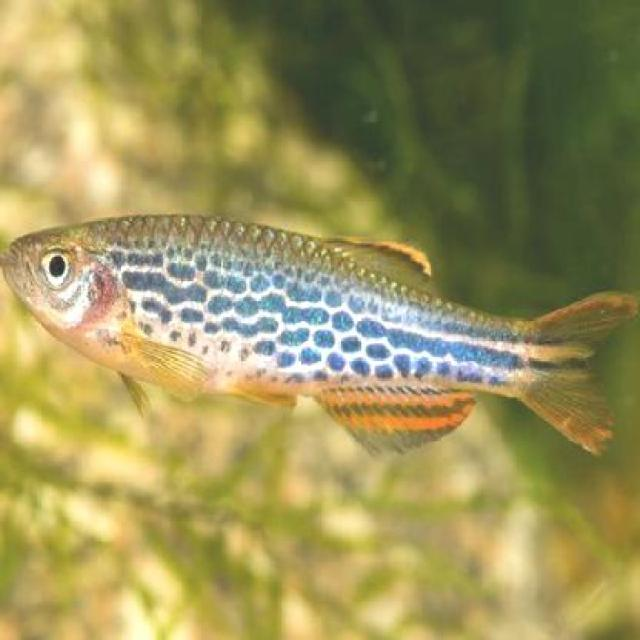ZebraFish: (1, 209, 638, 469)
